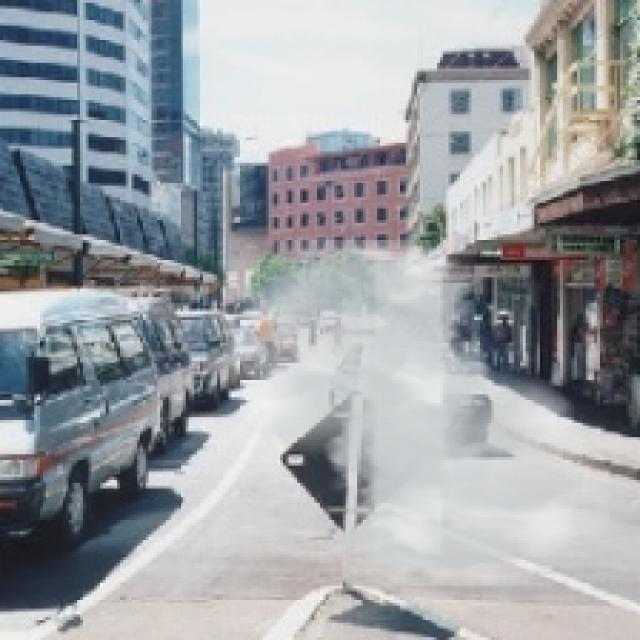smoke: (208, 240, 608, 586)
